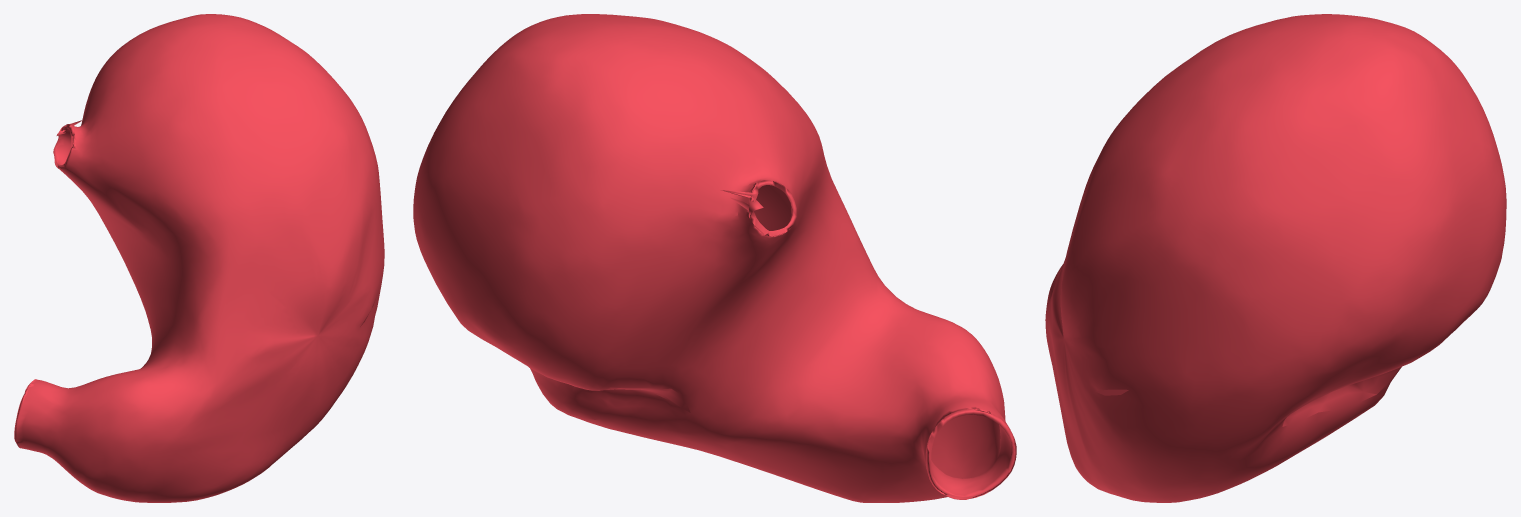
The model's file is Stomach.glb.
3 views of the same model, side by side, from view 1: azimuth 30°, elevation 25°; view 2: azimuth 150°, elevation 25°; view 3: azimuth 270°, elevation 25° (orthographic). The views are drawn at different scales.
Visible parts, largest first — view 1: Stomach; view 2: Stomach; view 3: Stomach.
Boxes of the visible parts, x1,y1,x2,y2 form: Stomach: (14, 14, 384, 502); Stomach: (413, 14, 1016, 502); Stomach: (1045, 14, 1506, 502).
Bounding box in the file's own units: 0.1452 × 0.1362 × 0.1144.
